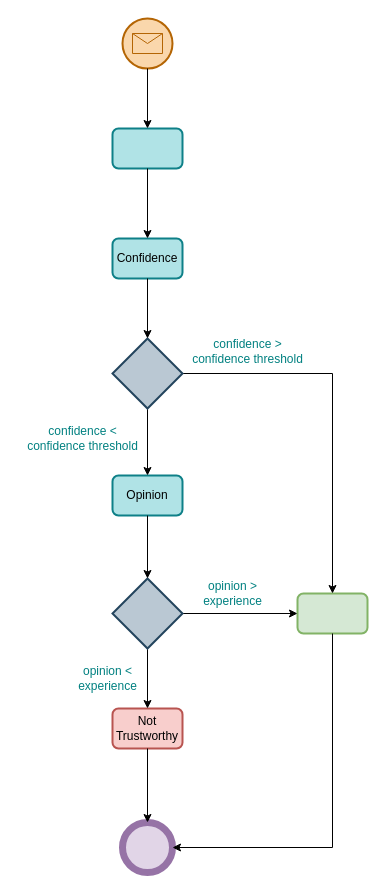
This 385x893 diagram has some shape labels left out. Here are the shapes that lost their labels. From the top down, the centre of each, then its label:
At (x=147, y=148): "Experience".
At (x=332, y=613): "Trustworthy".
